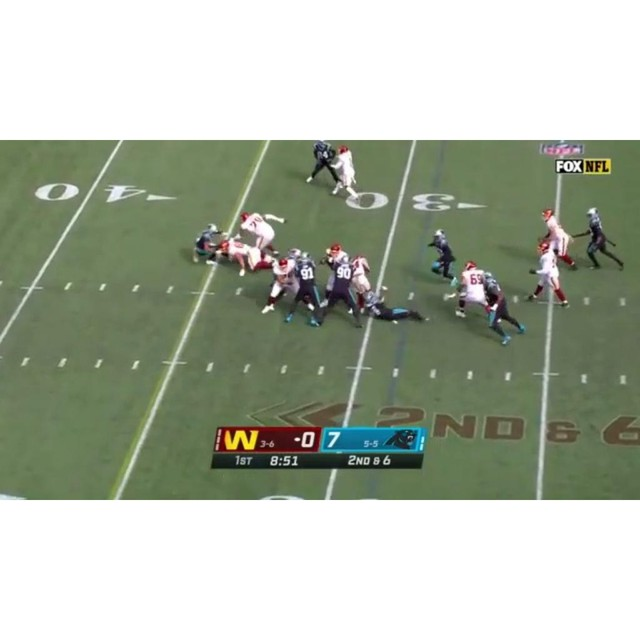american-football-player: (318, 254, 361, 328), (286, 252, 324, 327), (579, 209, 624, 271), (527, 243, 569, 308), (483, 278, 526, 340), (260, 257, 298, 316), (452, 261, 490, 318), (219, 240, 275, 277), (365, 293, 431, 323), (239, 211, 283, 256), (542, 213, 577, 269), (305, 141, 340, 190), (428, 229, 458, 283), (331, 145, 360, 200), (192, 223, 222, 265)
